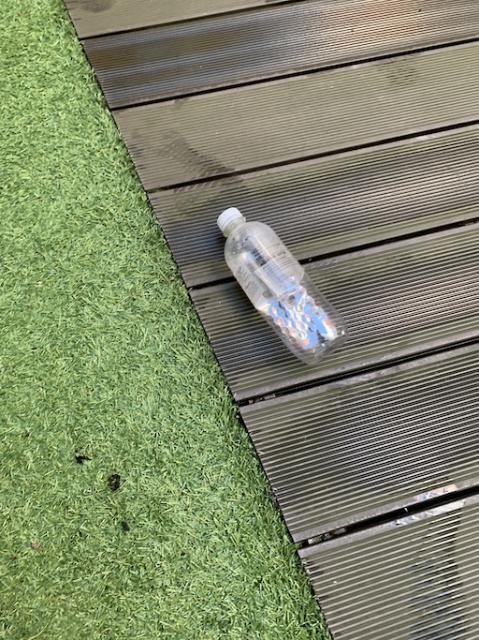plastic: (216, 206, 347, 363)
